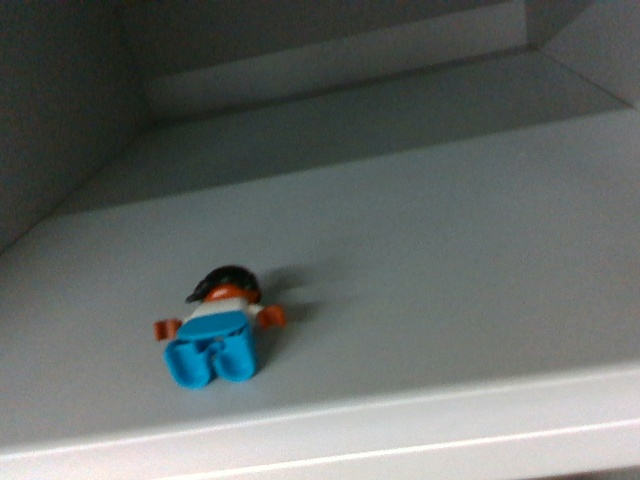people: (155, 264, 287, 387)
